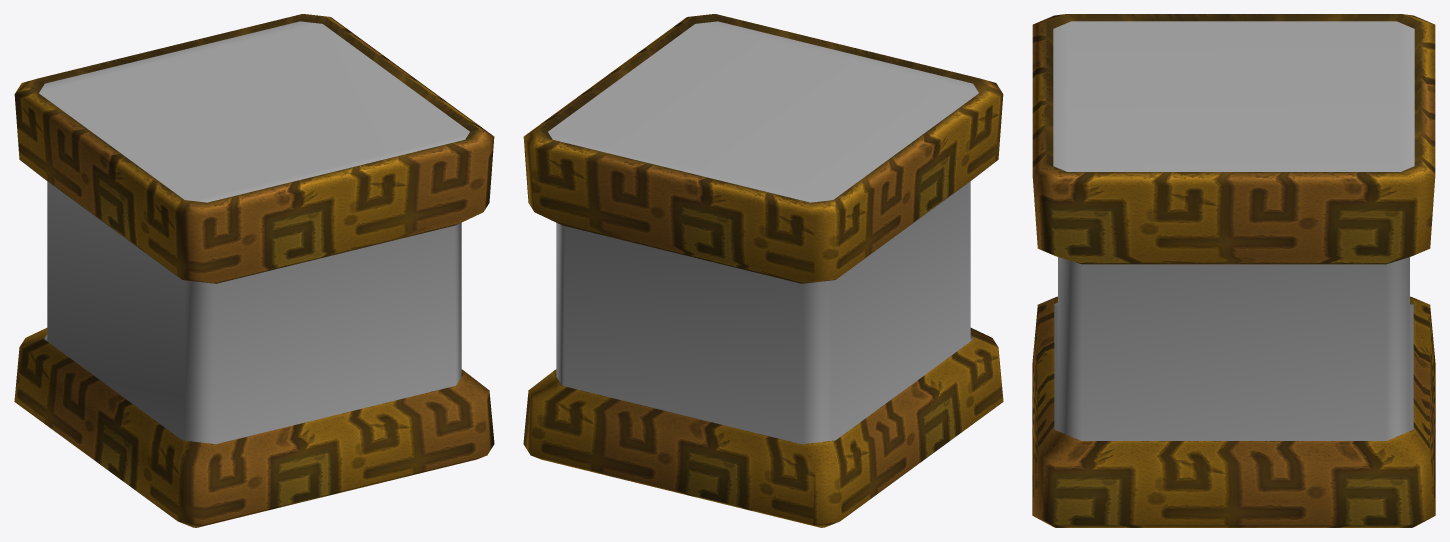
The model's file is SkirtBlock.fbx.
3 views of the same model, side by side, from view 1: azimuth 30°, elevation 25°; view 2: azimuth 150°, elevation 25°; view 3: azimuth 270°, elevation 25° (orthographic). The views are drawn at different scales.
Visible parts, largest first — view 1: SkirtBlock_LOD0, skirt_block_gold_trim_geo; view 2: SkirtBlock_LOD0, skirt_block_gold_trim_geo; view 3: SkirtBlock_LOD0, skirt_block_gold_trim_geo.
Boxes of the visible parts, left/top/right/bottom form: SkirtBlock_LOD0: left=39, top=21, right=469, bottom=444; skirt_block_gold_trim_geo: left=14, top=14, right=494, bottom=527; SkirtBlock_LOD0: left=548, top=21, right=978, bottom=444; skirt_block_gold_trim_geo: left=523, top=14, right=1003, bottom=527; SkirtBlock_LOD0: left=1053, top=21, right=1414, bottom=440; skirt_block_gold_trim_geo: left=1032, top=14, right=1435, bottom=527.
Bounding box in the file's own units: 1.03 × 1.01 × 1.03.
